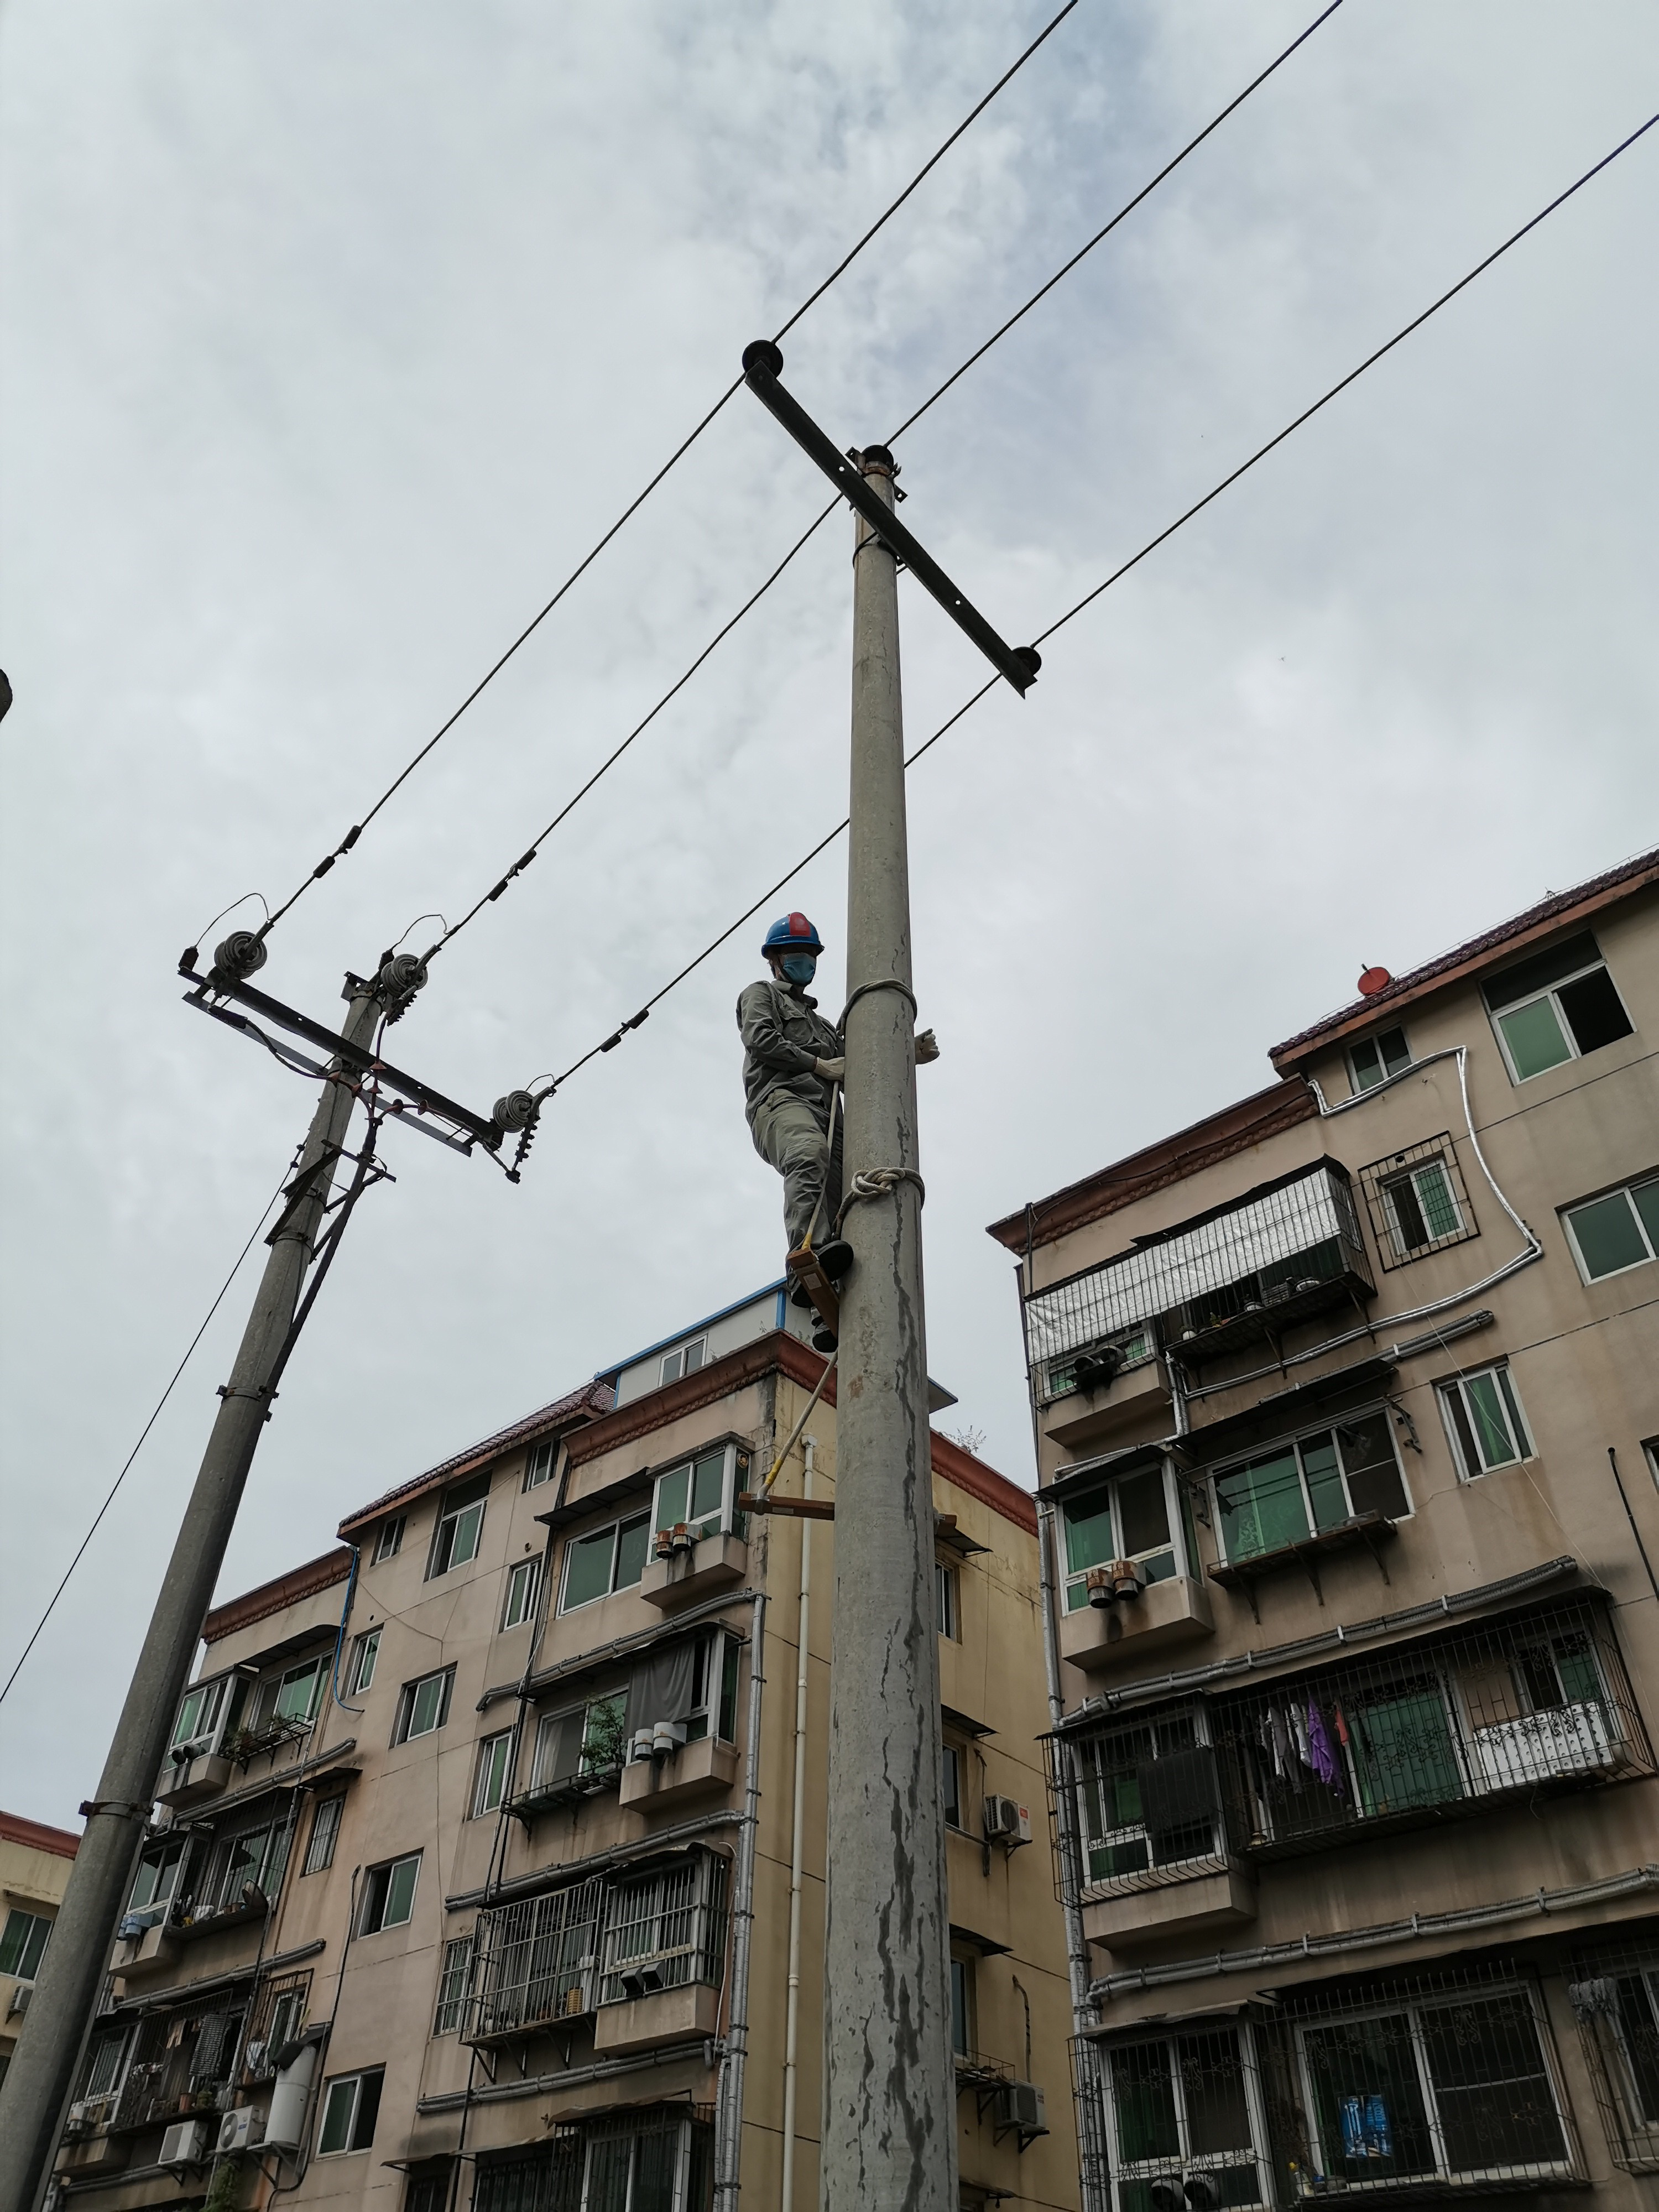hat: (756, 907, 830, 993)
